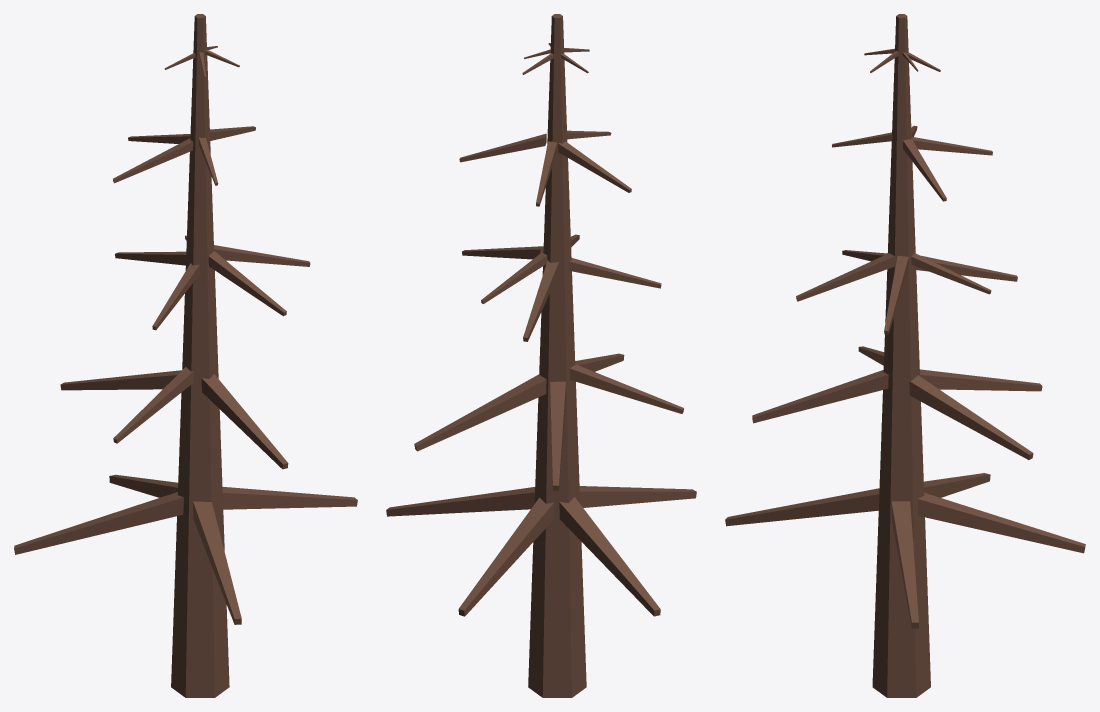
File: coniferA.glb
3 views of the same model, side by side, from view 1: azimuth 30°, elevation 25°; view 2: azimuth 150°, elevation 25°; view 3: azimuth 270°, elevation 25° (orthographic).
Visible parts, largest first — view 1: TRUNK, Cube.002, Cube, Cube.003, Cube.004, Cube.006, Cube.007, Cube.009, Cube.010, Cube.001, Cube.015, Cube.008 (+1 smaller); view 2: TRUNK, Cube.002, Cube.001, Cube, Cube.005, Cube.003, Cube.007, Cube.006, Cube.012, Cube.008, Cube.015, Cube.013 (+4 smaller); view 3: TRUNK, Cube.001, Cube.003, Cube.005, Cube.004, Cube, Cube.006, Cube.009, Cube.002, Cube.012, Cube.010, Cube.011 (+2 smaller).
Boxes of the visible parts, x1,y1,x2,y2 form: TRUNK: (171, 14, 229, 697); Cube.002: (14, 492, 183, 554); Cube: (222, 487, 357, 509); Cube.003: (193, 501, 241, 624); Cube.004: (201, 374, 288, 469); Cube.006: (60, 370, 181, 390); Cube.007: (113, 367, 193, 443); Cube.009: (208, 251, 286, 316); Cube.010: (214, 245, 310, 266); Cube.001: (109, 474, 178, 497); Cube.015: (113, 138, 193, 183); Cube.008: (152, 263, 199, 330); TRUNK: (528, 14, 586, 697); Cube.002: (559, 497, 660, 616); Cube.001: (458, 497, 553, 616); Cube: (386, 487, 535, 516); Cube.005: (414, 374, 546, 451); Cube.003: (579, 486, 696, 507); Cube.007: (569, 364, 683, 413); Cube.006: (550, 381, 565, 490); Cube.012: (523, 260, 558, 341); Cube.008: (569, 258, 661, 288); Cube.015: (558, 141, 631, 192); Cube.013: (459, 133, 546, 162); TRUNK: (872, 14, 930, 697); Cube.001: (917, 492, 1085, 553); Cube.003: (725, 488, 879, 526); Cube.005: (909, 375, 1033, 459); Cube.004: (752, 370, 888, 423); Cube: (891, 501, 918, 628); Cube.006: (920, 369, 1042, 391); Cube.009: (796, 253, 895, 301); Cube.002: (924, 473, 990, 497); Cube.012: (913, 255, 1017, 281); Cube.010: (884, 255, 908, 334); Cube.011: (911, 253, 991, 294).
Bounding box in the file's own units: 3.98 × 8.3 × 4.04.
